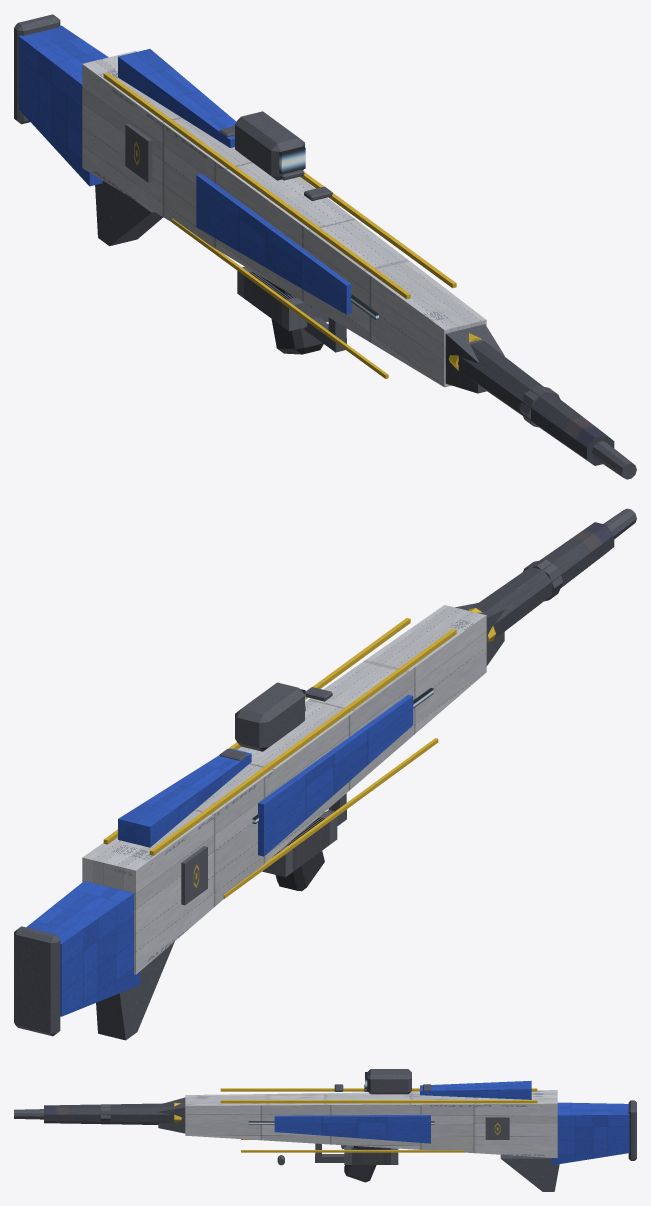
File: auc_rifle.obj
The picture shows the model from 3 angles, top to bottom: view 1: azimuth 30°, elevation 25°; view 2: azimuth 150°, elevation 25°; view 3: azimuth 270°, elevation 25°; orthographic projection. The views are drawn at different scales.
Parts seen in each view (by area): view 1: auc_rifle; view 2: auc_rifle; view 3: auc_rifle.
Part boxes in pixels (left/top/right/bottom): auc_rifle: left=14, top=14, right=636, bottom=479; auc_rifle: left=14, top=508, right=636, bottom=1040; auc_rifle: left=14, top=1069, right=636, bottom=1191.
Bounding box in the file's own units: 0.077 × 0.214 × 1.04.
Materials: 1 (1 with a texture image).
